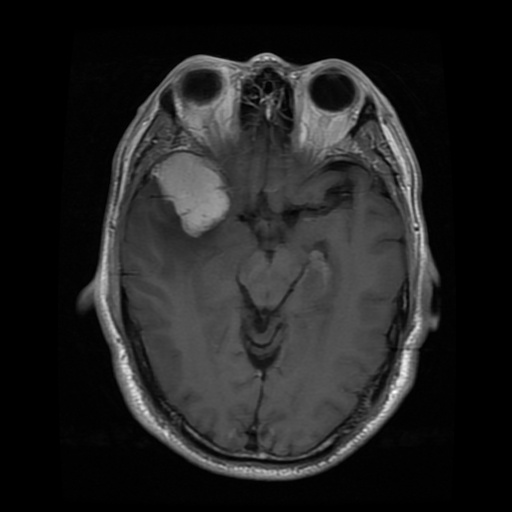meningioma: (152, 148, 231, 238)
